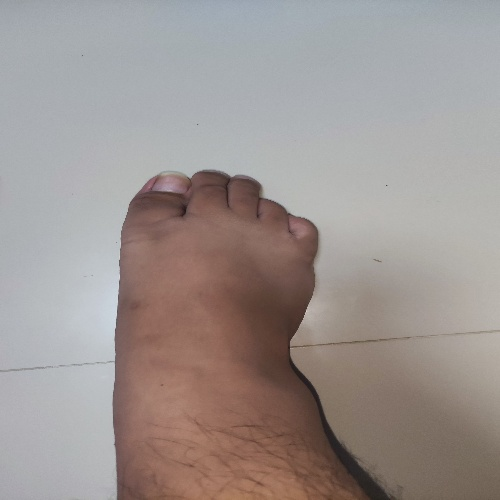3: (127, 170, 191, 223)
Top_Foot: (111, 167, 320, 500)
